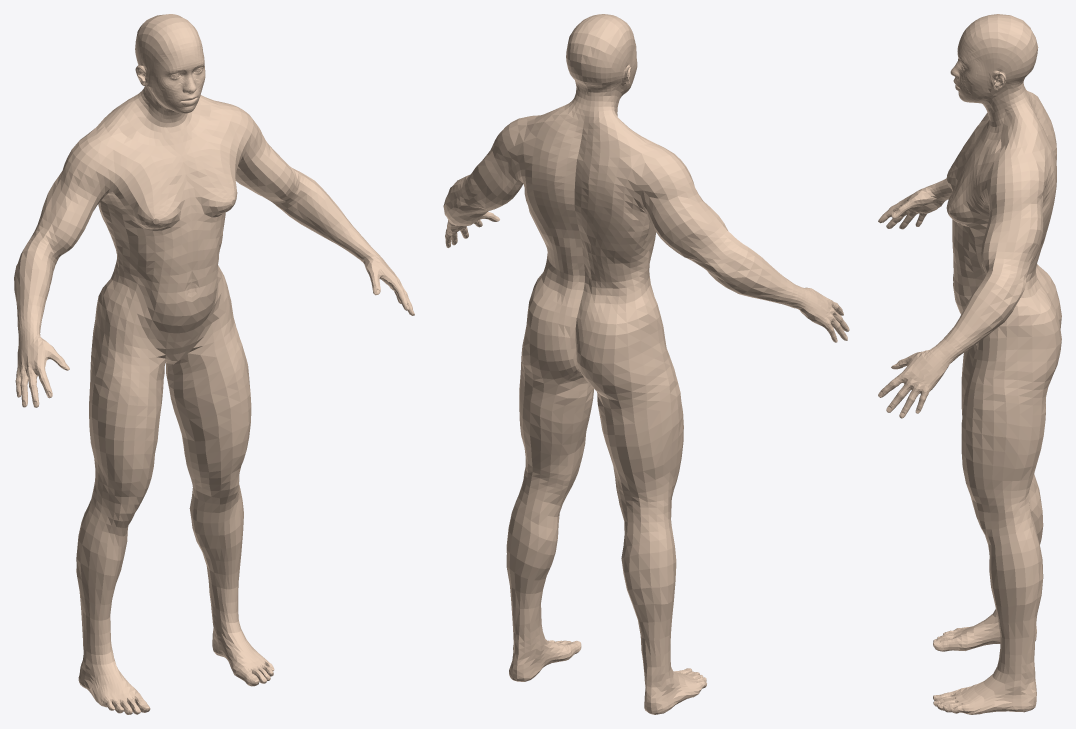
File: female-adult-max-high.glb
3 renders of one model, left to right at view 1: azimuth 30°, elevation 25°; view 2: azimuth 150°, elevation 25°; view 3: azimuth 270°, elevation 25°, orthographic.
Visible parts, largest first — view 1: world; view 2: world; view 3: world.
Boxes of the visible parts, left/top/right/bottom form: world: left=14, top=14, right=414, bottom=714; world: left=443, top=14, right=849, bottom=714; world: left=878, top=14, right=1061, bottom=714.
Bounding box in the file's own units: 1.13 × 1.83 × 0.4616.
